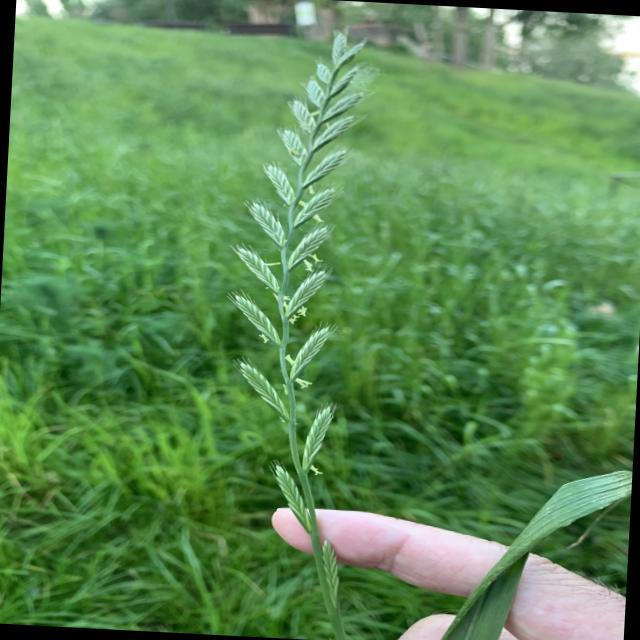Lolium: (206, 24, 386, 638)
